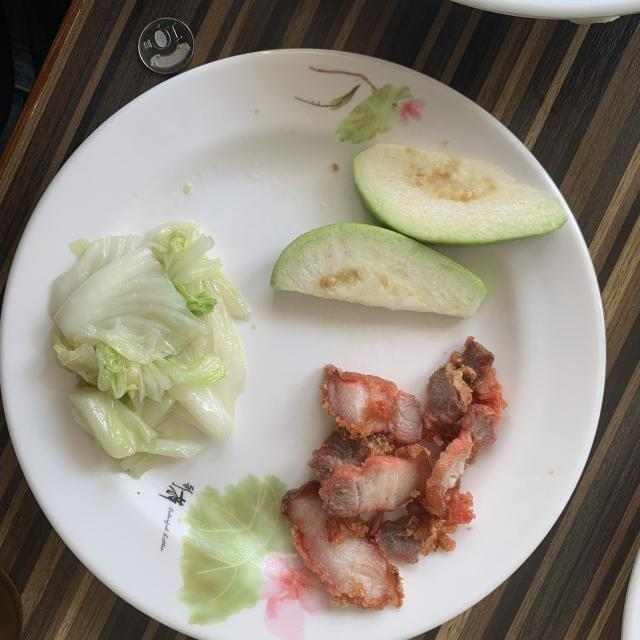cabbage: (49, 222, 250, 478)
coin: (139, 18, 194, 74)
guava -sliced-: (270, 144, 566, 318)
red grilled pork: (281, 338, 506, 610)
